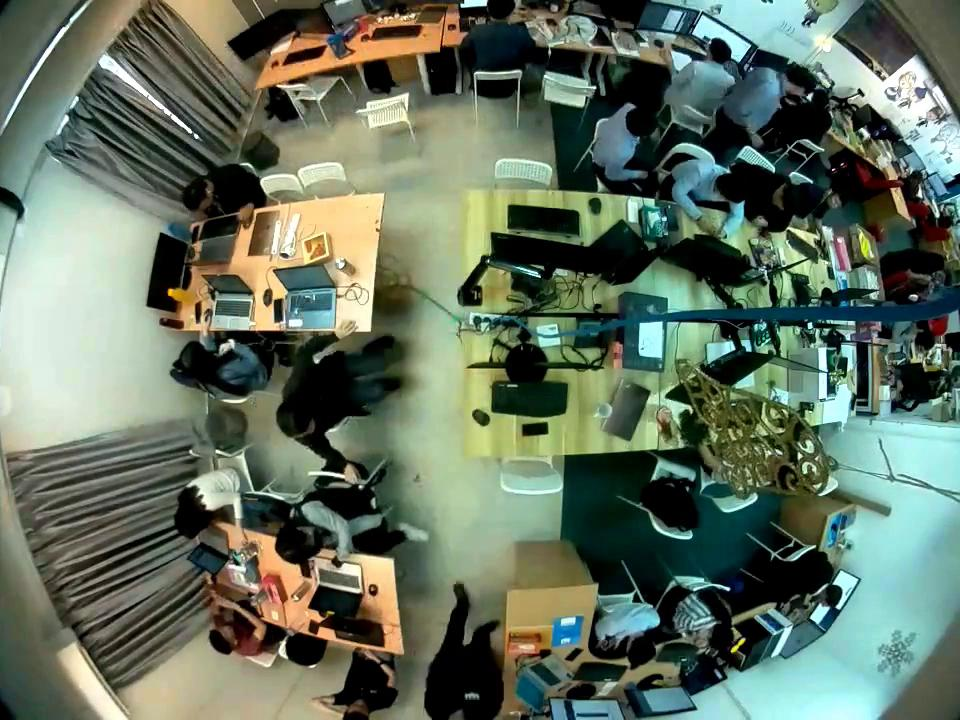employee_tag: (462, 691, 480, 702)
